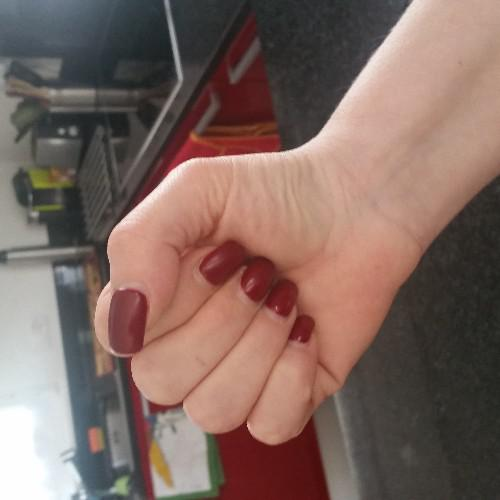rock: (85, 142, 424, 453)
